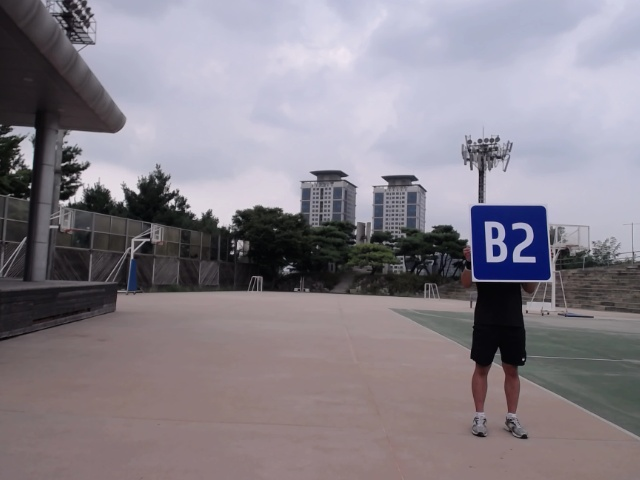delivery_b2: (468, 204, 553, 282)
